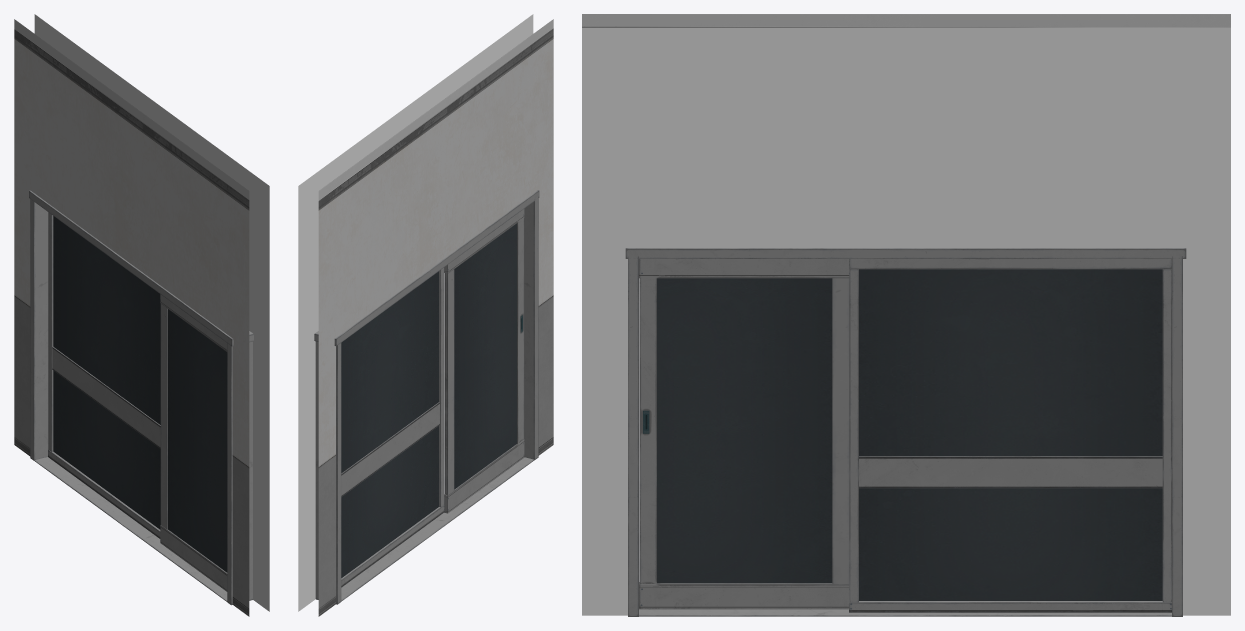
File: HH_PatientRoom_Wall_Glass.fbx
3 views of the same model, side by side, from view 1: azimuth 30°, elevation 25°; view 2: azimuth 150°, elevation 25°; view 3: azimuth 270°, elevation 25° (orthographic). The views are drawn at different scales.
Visible parts, largest first — view 1: HH_PatientRoom_Wall_Glass, HH_PatientRoom_Wall_Glass1, HH_PatientRoom_Door_Glass, HH_PatientRoom_Door; view 2: HH_PatientRoom_Wall_Glass, HH_PatientRoom_Wall_Glass1, HH_PatientRoom_Door_Glass, HH_PatientRoom_Door; view 3: HH_PatientRoom_Wall_Glass, HH_PatientRoom_Wall_Glass1, HH_PatientRoom_Door_Glass, HH_PatientRoom_Door.
Boxes of the visible parts, x1,y1,x2,y2 form: HH_PatientRoom_Wall_Glass: (14,14,269,616); HH_PatientRoom_Wall_Glass1: (53,216,160,529); HH_PatientRoom_Door_Glass: (168,309,227,572); HH_PatientRoom_Door: (160,294,227,591); HH_PatientRoom_Wall_Glass: (298,14,553,616); HH_PatientRoom_Wall_Glass1: (341,271,438,577); HH_PatientRoom_Door_Glass: (454,223,516,489); HH_PatientRoom_Door: (444,208,524,513); HH_PatientRoom_Wall_Glass: (582,14,1230,616); HH_PatientRoom_Wall_Glass1: (859,269,1162,600); HH_PatientRoom_Door_Glass: (657,278,832,583); HH_PatientRoom_Door: (639,259,849,609).
Size of what is drawn, in the model's own units: 23.09 by 400 by 400.
